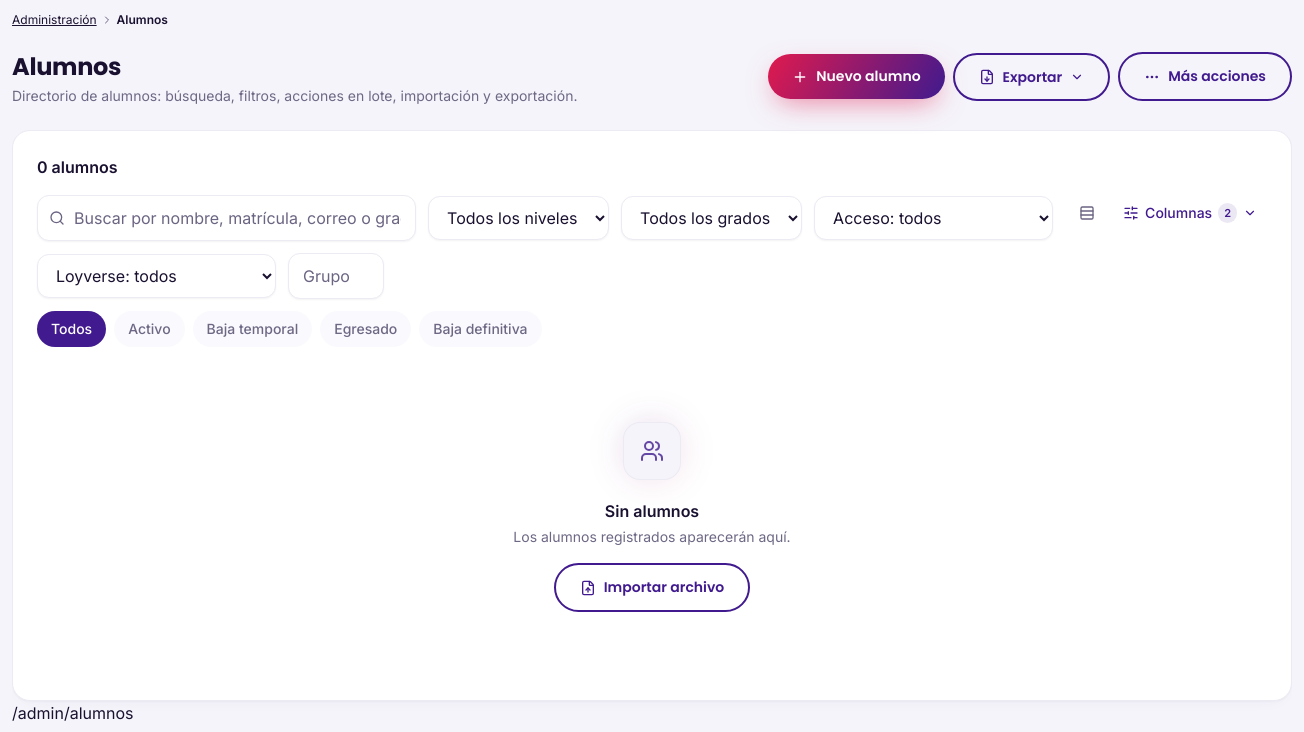
it: AdminStudents URL-synced filters › writes the debounced search to the URL (?q=)
The width and height of the screenshot is (1304, 732).
Type "ana" into the field named "Buscar alumnos" at (227, 218), box top-left (37, 195), bottom-right (416, 241)
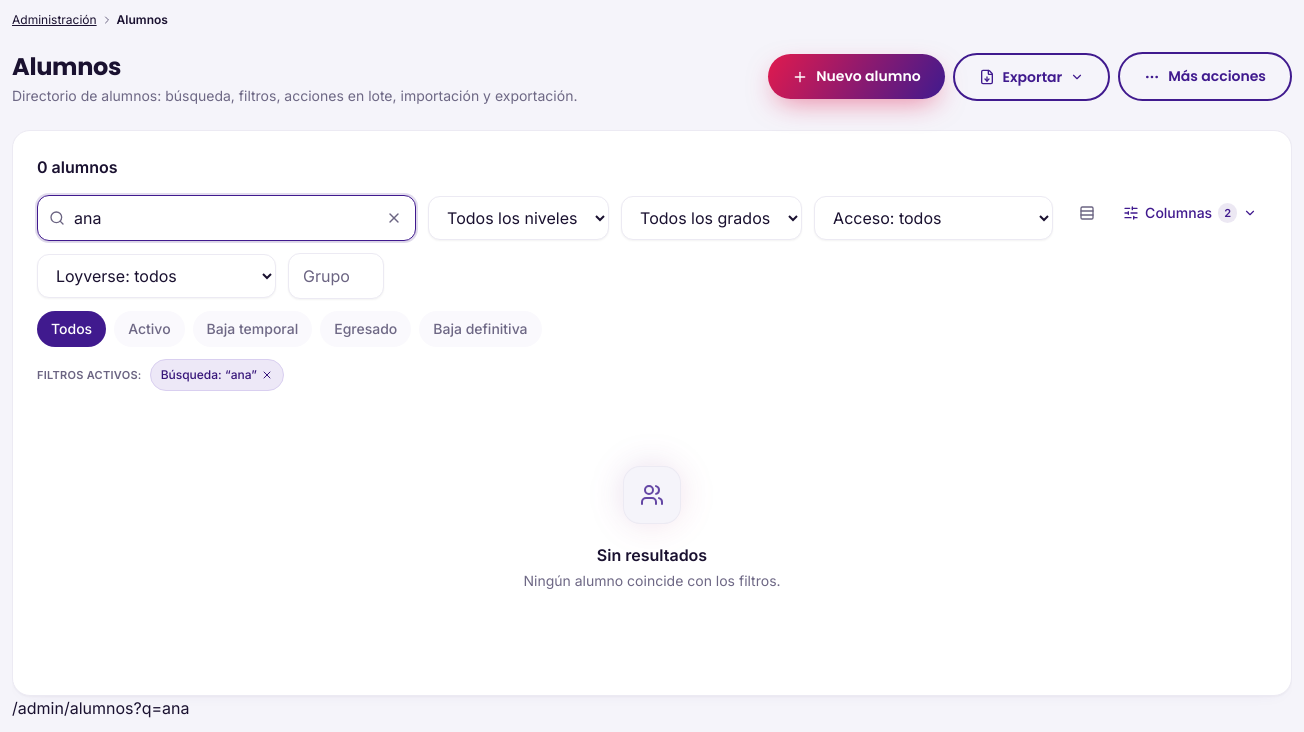
Result: the text with test id "location" reads "/admin/alumnos?q=ana" at top-left (12, 698), bottom-right (190, 718)
